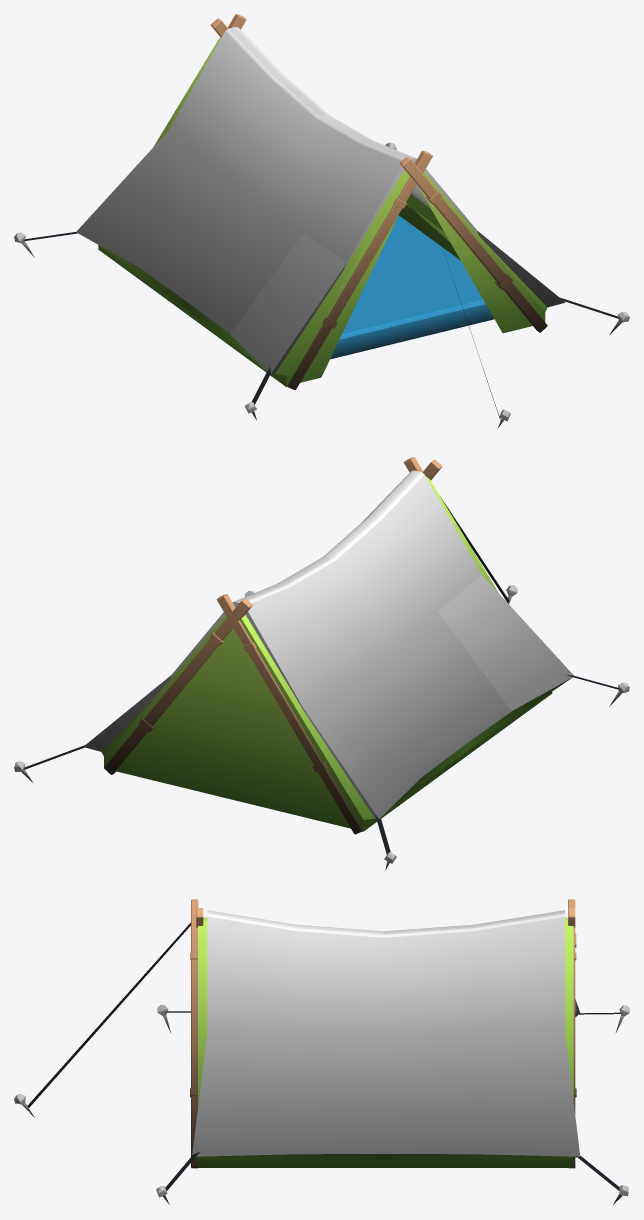
The model's file is tent.glb.
3 renders of one model, top to bottom at view 1: azimuth 30°, elevation 25°; view 2: azimuth 150°, elevation 25°; view 3: azimuth 270°, elevation 25°, orthographic.
Visible parts, largest first — view 1: Tent; view 2: Tent; view 3: Tent.
Boxes of the visible parts, bbox=[...] form: Tent: bbox=[14, 14, 629, 427]; Tent: bbox=[14, 457, 629, 870]; Tent: bbox=[14, 899, 629, 1204].
Bounding box in the file's own units: 6.54 × 3.52 × 9.17.
1 material, 1 textured.
